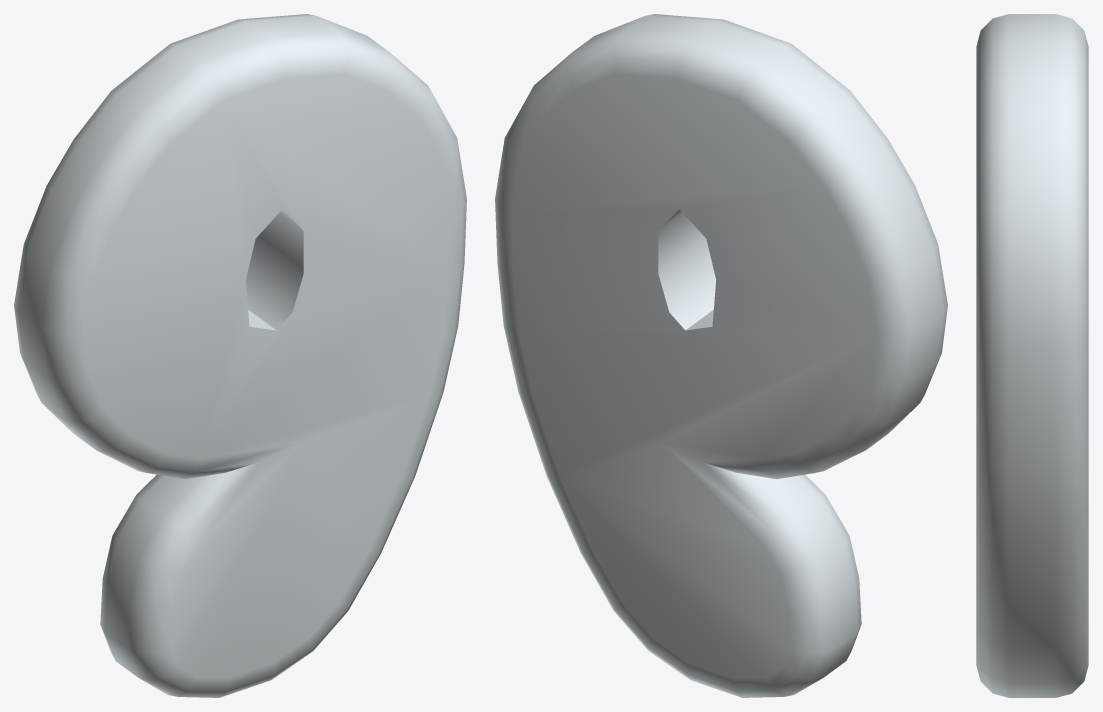
Rendered from NumberNine 1.fbx.
The picture shows the model from 3 angles, left to right: view 1: azimuth 30°, elevation 25°; view 2: azimuth 150°, elevation 25°; view 3: azimuth 270°, elevation 25°; orthographic projection. The views are drawn at different scales.
Parts seen in each view (by area): view 1: Vert.001; view 2: Vert.001; view 3: Vert.001.
Part boxes in pixels (x1=…): Vert.001: x1=14, y1=14, x2=466, y2=697; Vert.001: x1=495, y1=14, x2=947, y2=697; Vert.001: x1=976, y1=14, x2=1088, y2=697.
Size of the model in its own units: 224 by 326 by 50.18.
